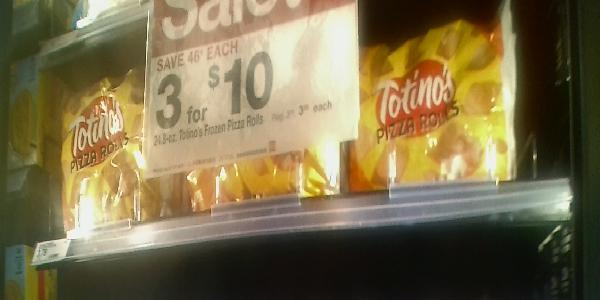icecream: (149, 17, 343, 218), (344, 18, 517, 190), (51, 72, 156, 233)
